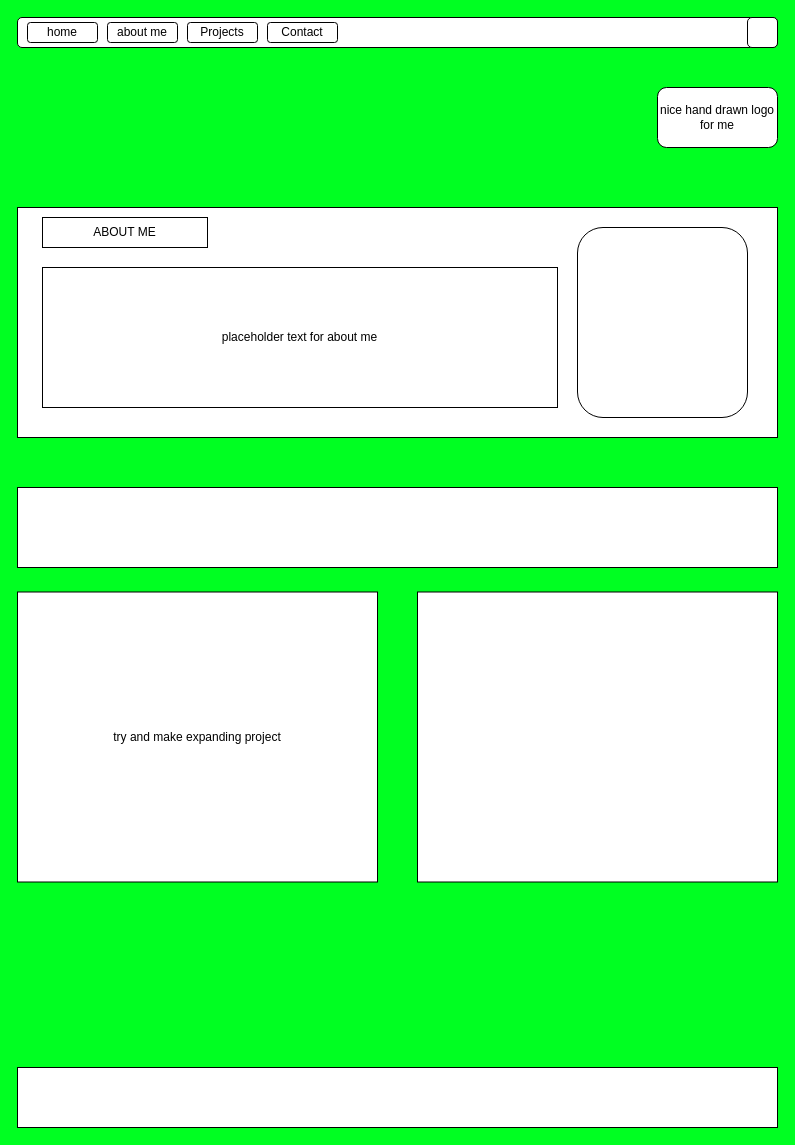
The diagram is 795 pixels wide and 1145 high, and some of its shapes have lost their labels. The shapes that lost their labels are listed below. From the top down, each one's centre as x and y in pixels, then its label:
At (762,32): "git".
At (662,322): "image of le me".
At (397,527): "summary of projects below,".
At (397,1097): "footer with contact deets".
